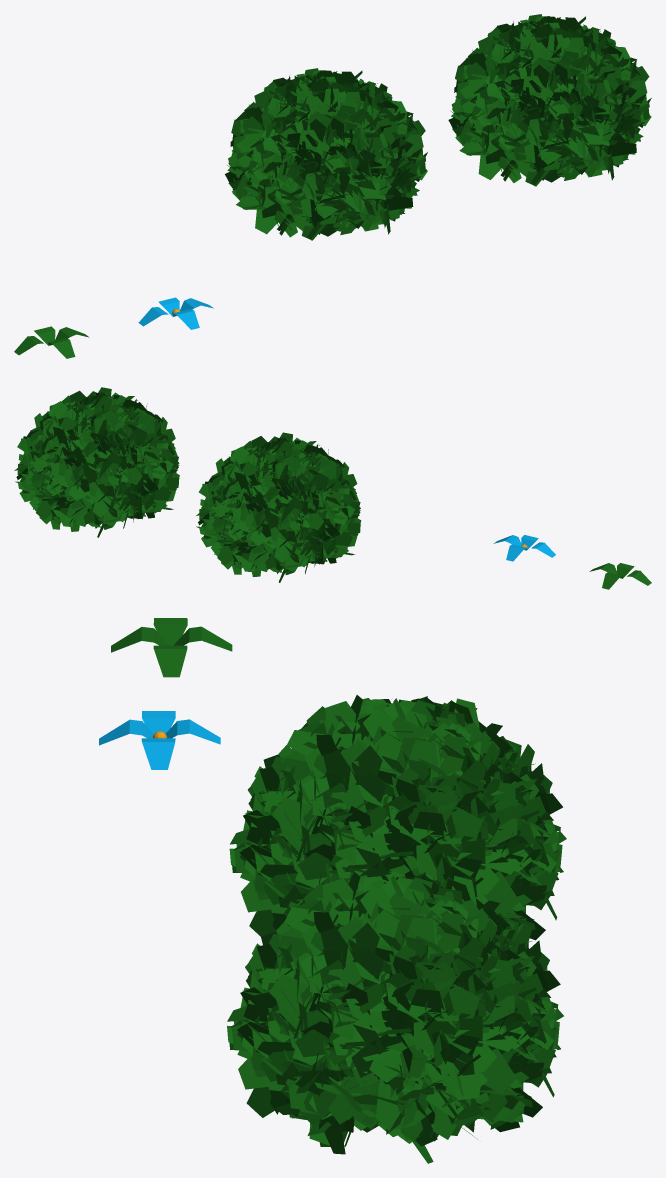
File: bushes.fbx
The picture shows the model from 3 angles, top to bottom: view 1: azimuth 30°, elevation 25°; view 2: azimuth 150°, elevation 25°; view 3: azimuth 270°, elevation 25°; orthographic projection. The views are drawn at different scales.
Parts seen in each view (by area): view 1: Flower, Flower_Complete; view 2: Flower, Flower_Complete, Sphere|Flower|Dupli|180, Sphere.001|Flower|Dupli|180; view 3: Flower, Flower_Complete, Sphere.001|Flower|Dupli|276, Sphere|Flower|Dupli|276, Sphere.001|Flower|Dupli|670, Sphere.001|Flower|Dupli|6, Sphere.001|Flower|Dupli|367, Sphere.001|Flower|Dupli|139, Sphere|Flower|Dupli|367, Sphere.001|Flower|Dupli|47, Sphere.001|Flower|Dupli|435, Sphere|Flower|Dupli|47.
Part boxes in pixels (x1,y1,x2,y2): Flower: (14,326,89,358); Flower_Complete: (138,297,213,329); Flower: (589,563,651,589); Flower_Complete: (493,535,555,561); Sphere|Flower|Dupli|180: (274,534,314,562); Sphere.001|Flower|Dupli|180: (93,489,133,517); Flower: (111,618,232,677); Flower_Complete: (99,711,220,769); Sphere.001|Flower|Dupli|276: (269,974,315,1098); Sphere|Flower|Dupli|276: (272,797,318,916); Sphere.001|Flower|Dupli|670: (299,1081,434,1125); Sphere.001|Flower|Dupli|6: (274,1029,328,1114); Sphere.001|Flower|Dupli|367: (481,1048,516,1093); Sphere.001|Flower|Dupli|139: (330,1032,400,1130); Sphere|Flower|Dupli|367: (484,871,519,916); Sphere.001|Flower|Dupli|47: (260,952,310,1081); Sphere.001|Flower|Dupli|435: (314,996,360,1124); Sphere|Flower|Dupli|47: (262,775,313,904).
Size of the model in its own units: 309 by 62.38 by 111.
